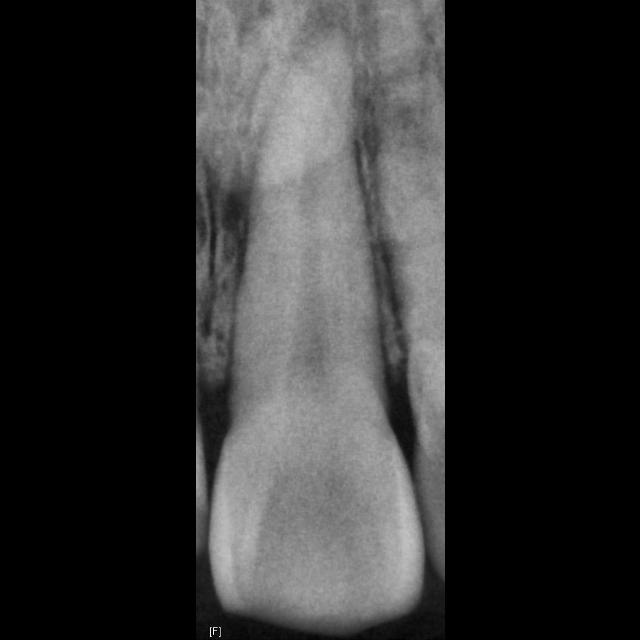tooth: (207, 27, 426, 634)
